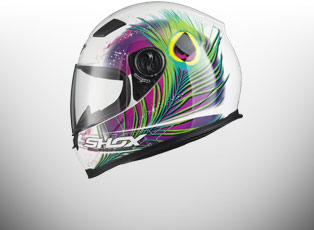with_helmet: (64, 1, 251, 182)
